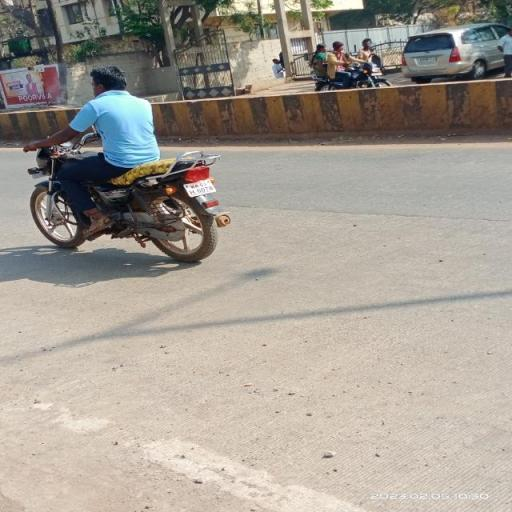bike: (14, 62, 230, 269)
withouthelmet: (91, 66, 121, 93)
